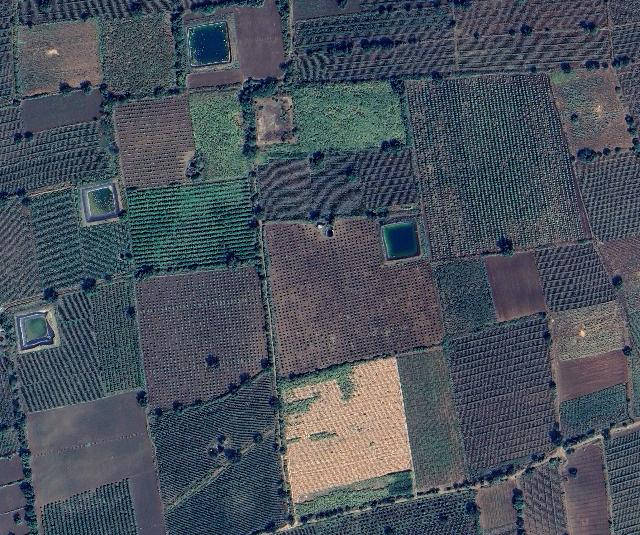DryFarms: (281, 358, 409, 498)
EmptyFarms: (23, 387, 166, 535), (187, 0, 288, 91), (487, 250, 545, 325), (15, 89, 103, 135), (559, 347, 631, 401)
Farms: (405, 72, 591, 255), (265, 215, 446, 378), (151, 369, 289, 535), (0, 0, 111, 199), (189, 81, 406, 181), (443, 316, 564, 487), (136, 264, 268, 409), (22, 280, 149, 409), (293, 1, 455, 80), (255, 150, 421, 225), (127, 177, 259, 271), (455, 0, 614, 71), (399, 346, 469, 495), (112, 92, 197, 191), (99, 13, 186, 101), (17, 15, 106, 98), (536, 238, 615, 312), (41, 482, 135, 535)
water: (14, 303, 59, 361), (190, 20, 229, 64), (86, 181, 124, 223), (385, 220, 423, 259)
